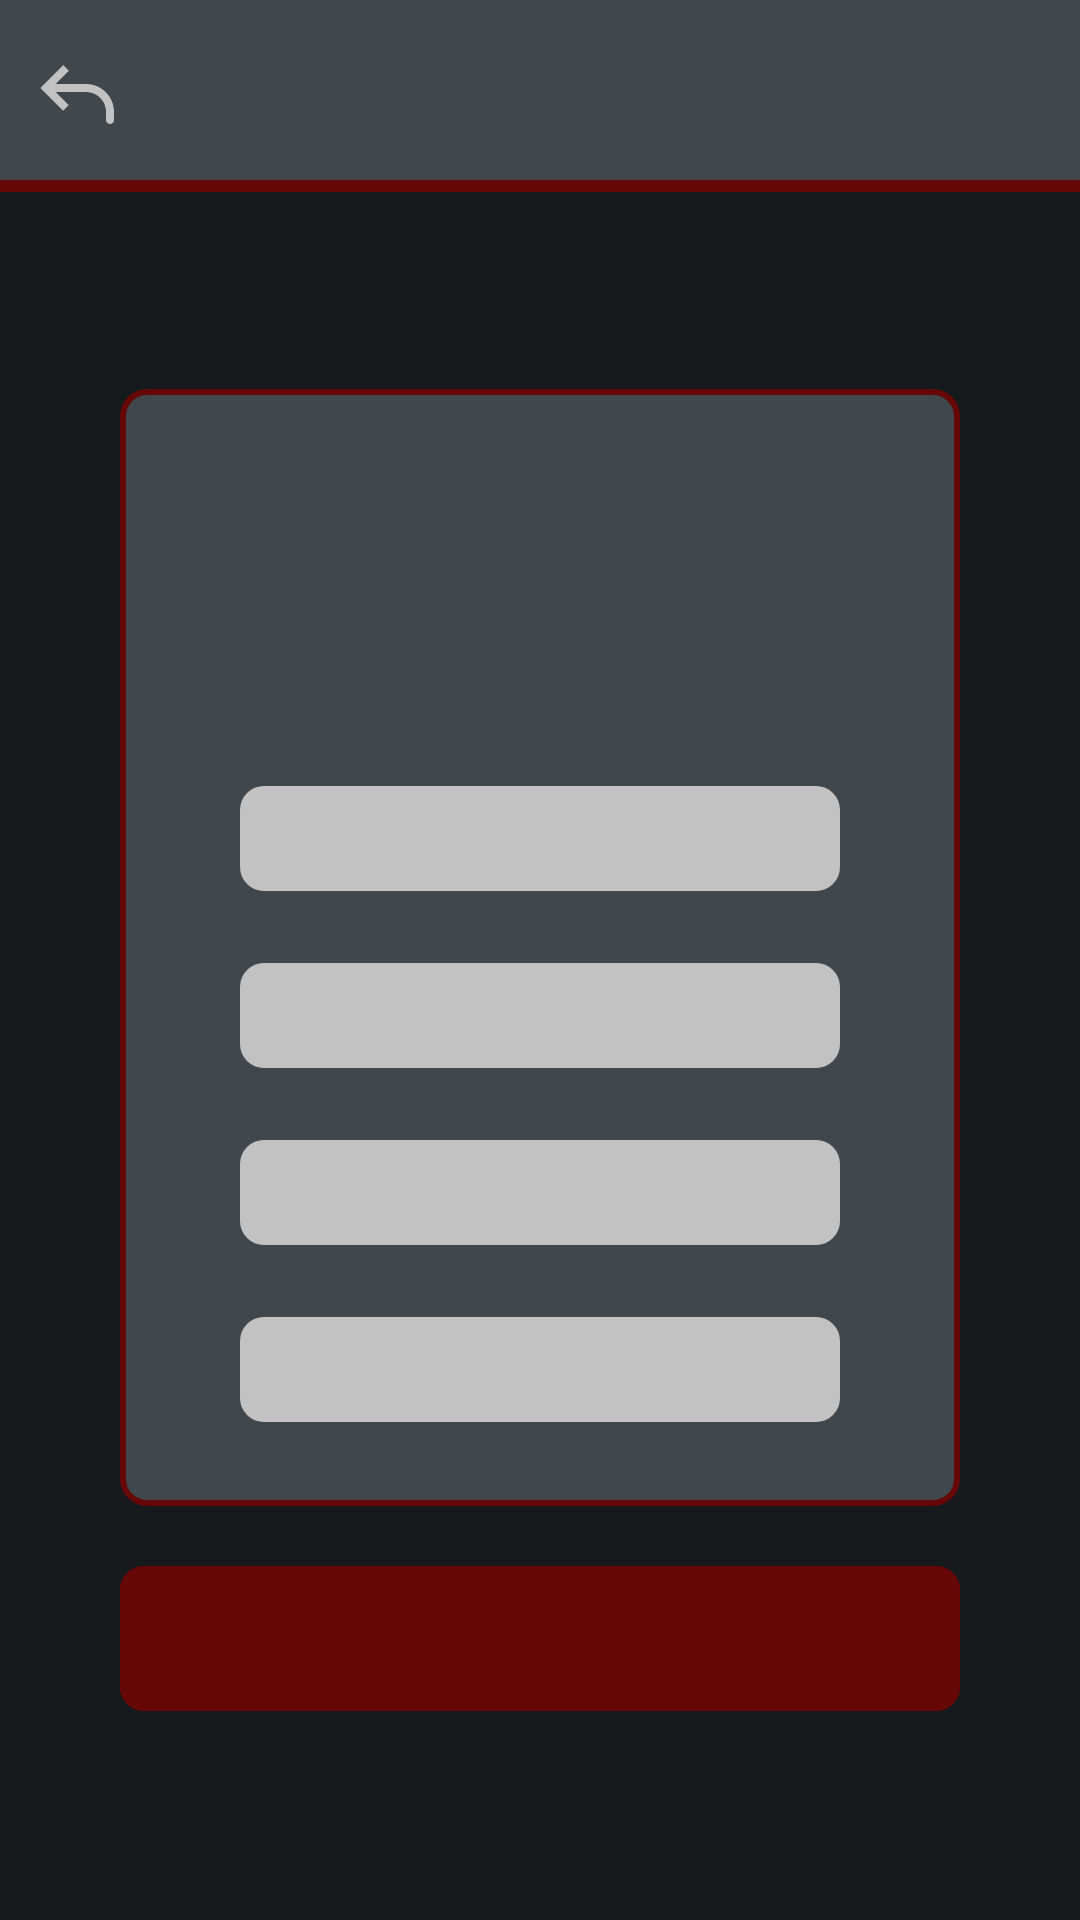

Named icons in this screenshot (1080px×1920px) and their centers, [x,y]:
return icon: [77,94]
